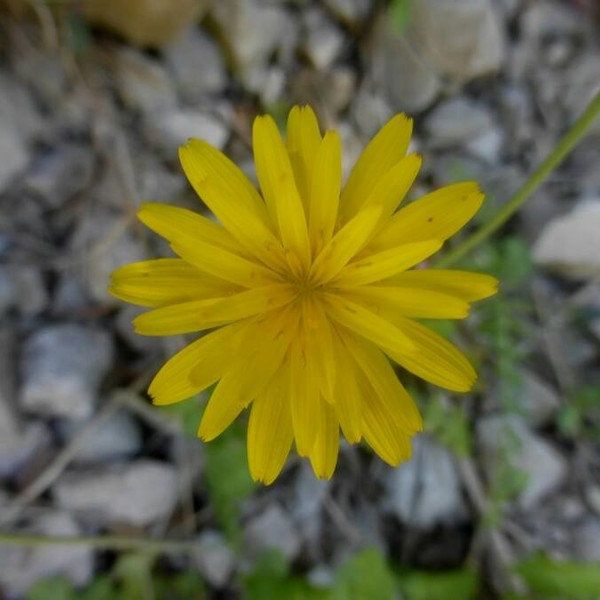obstacle: (115, 91, 503, 504)
